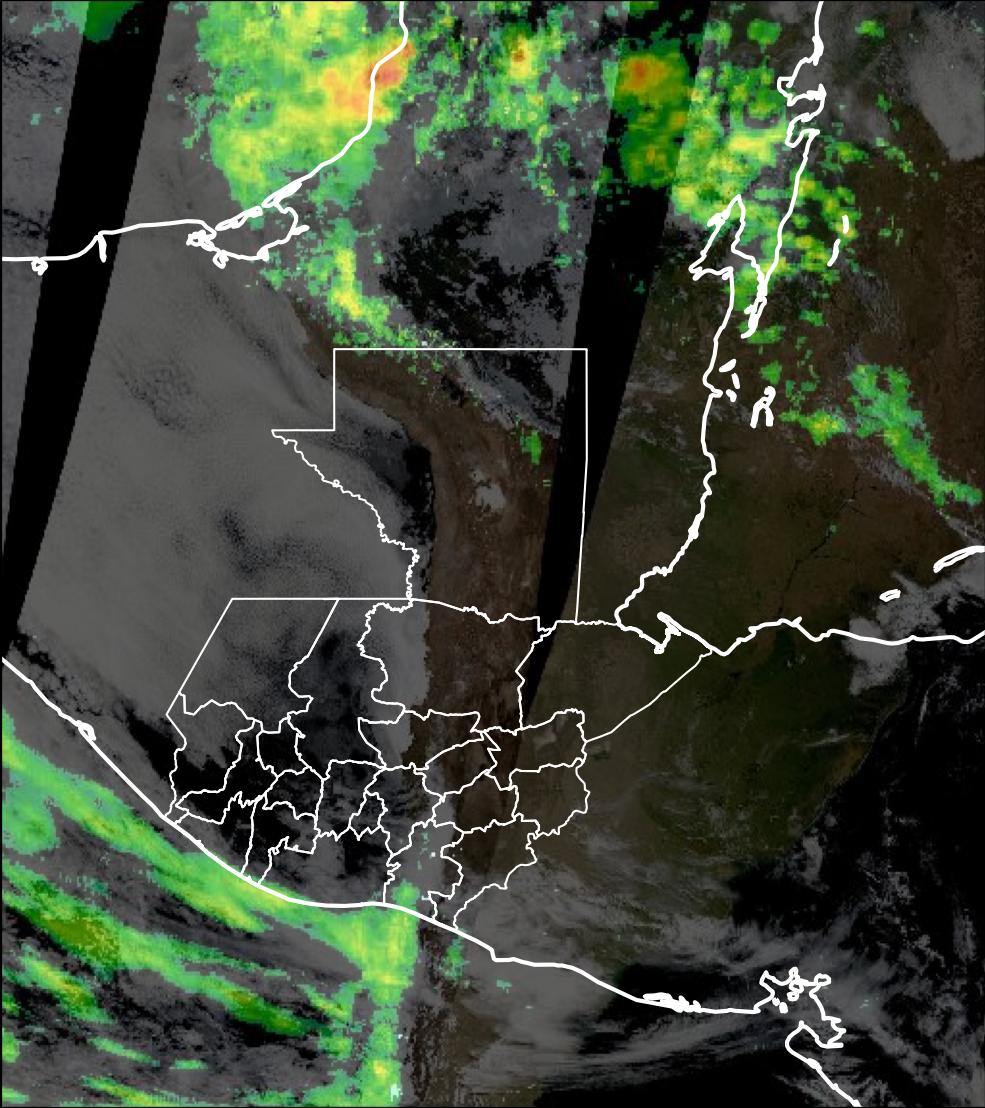precipitacion: (318, 39, 400, 124)
